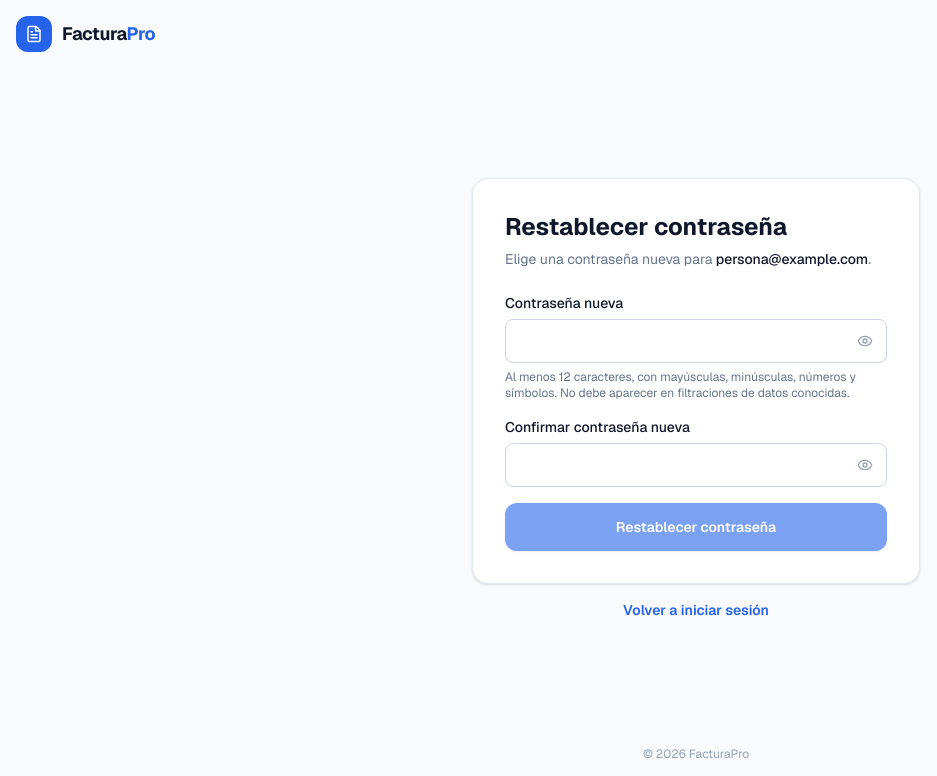
Test case: /restablecer-contrasena (Fase 6.32, D2) › las reglas de la contraseña se muestran junto al campo y el enlace sigue sirviendo
The width and height of the screenshot is (937, 776).
Type "corta" into the password field labelled "Contraseña nueva".
click(696, 341); type("corta")  # box x1=505 y1=319 x2=887 y2=363
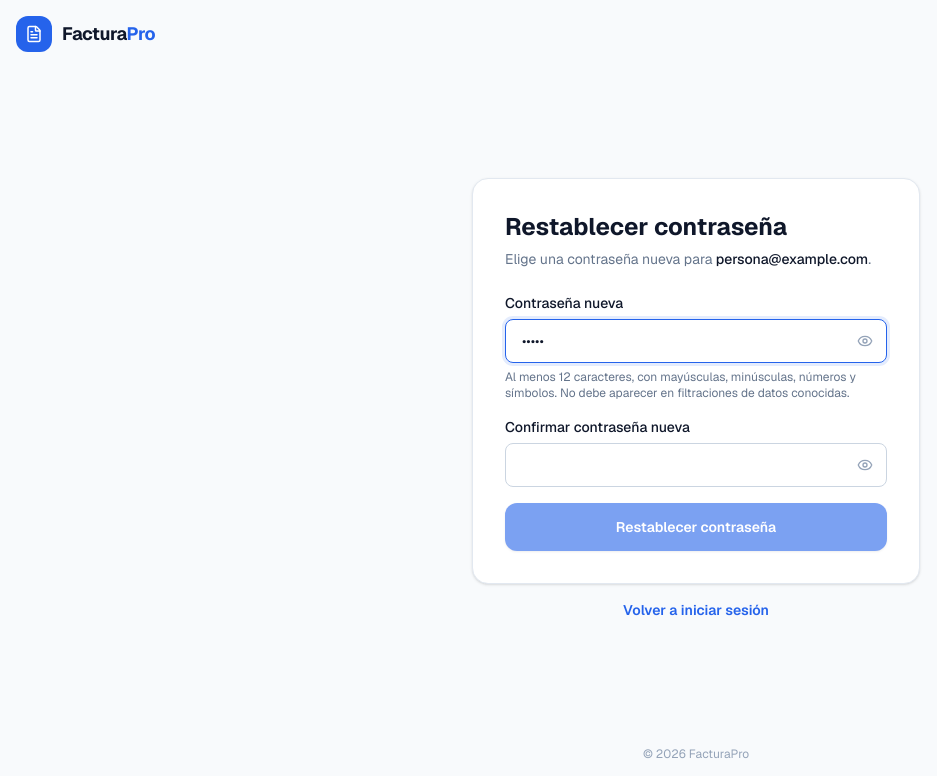
Type "corta" into the password field labelled "Confirmar contraseña nueva".
click(696, 465); type("corta")  # box x1=505 y1=443 x2=887 y2=487
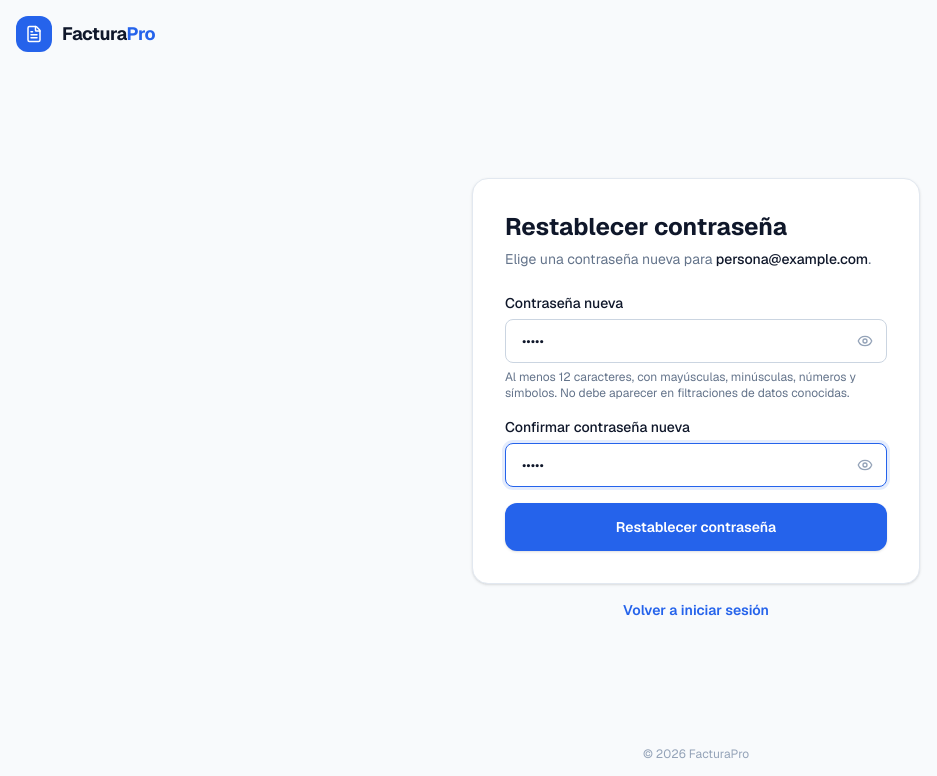
Click the button "Restablecer contraseña".
click(696, 527)  # box x1=505 y1=503 x2=887 y2=551
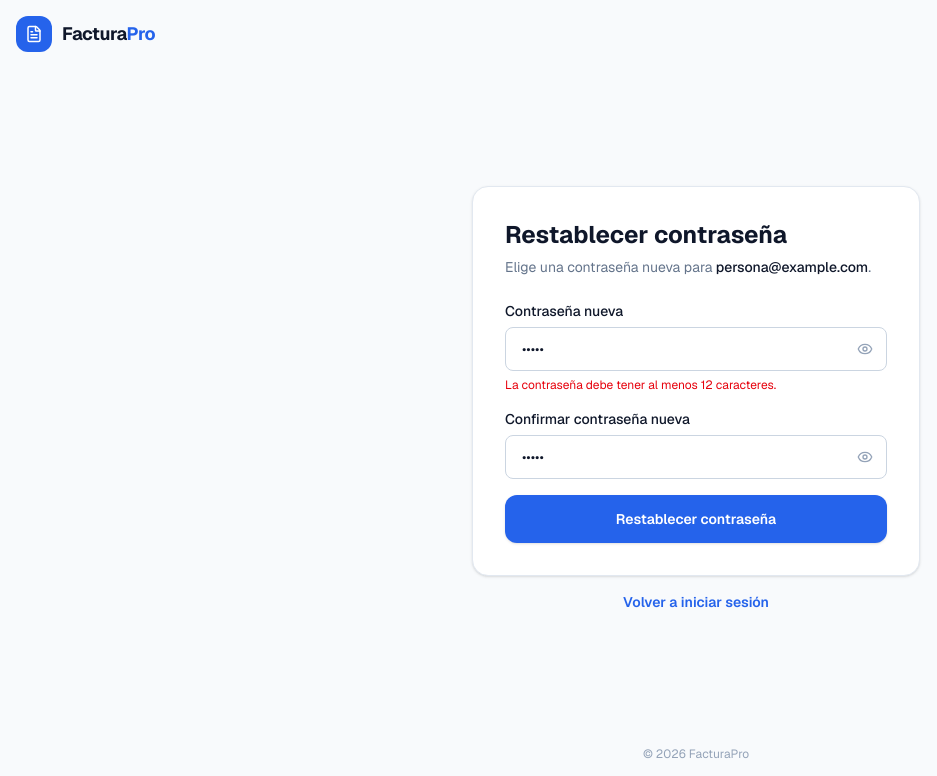
Expected: the text "La contraseña debe tener al menos 12 caracteres." is shown, x1=505 y1=377 x2=776 y2=393
